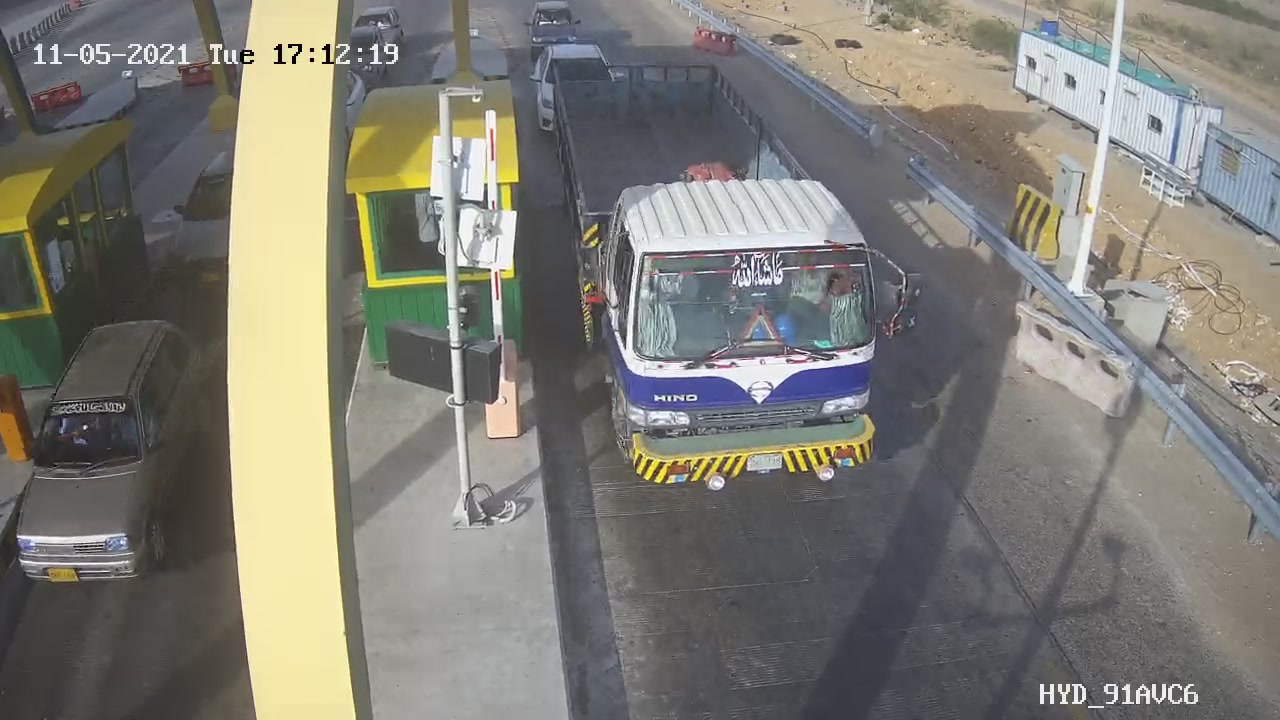F5: (533, 40, 951, 517)
